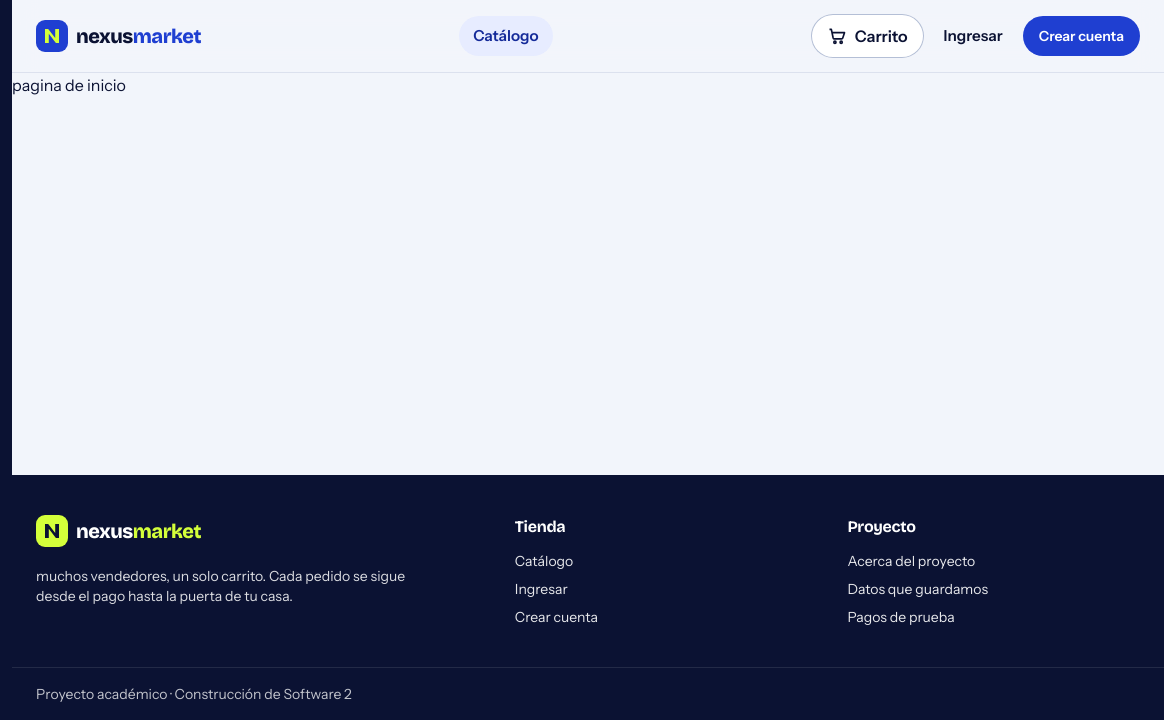
Test: store header › shows the cart to a visitor too, and sends them to sign in when they open it
Click the link with aria-label "Carrito: ingresa para ver tu carrito": (867,36) [811,14,924,58]
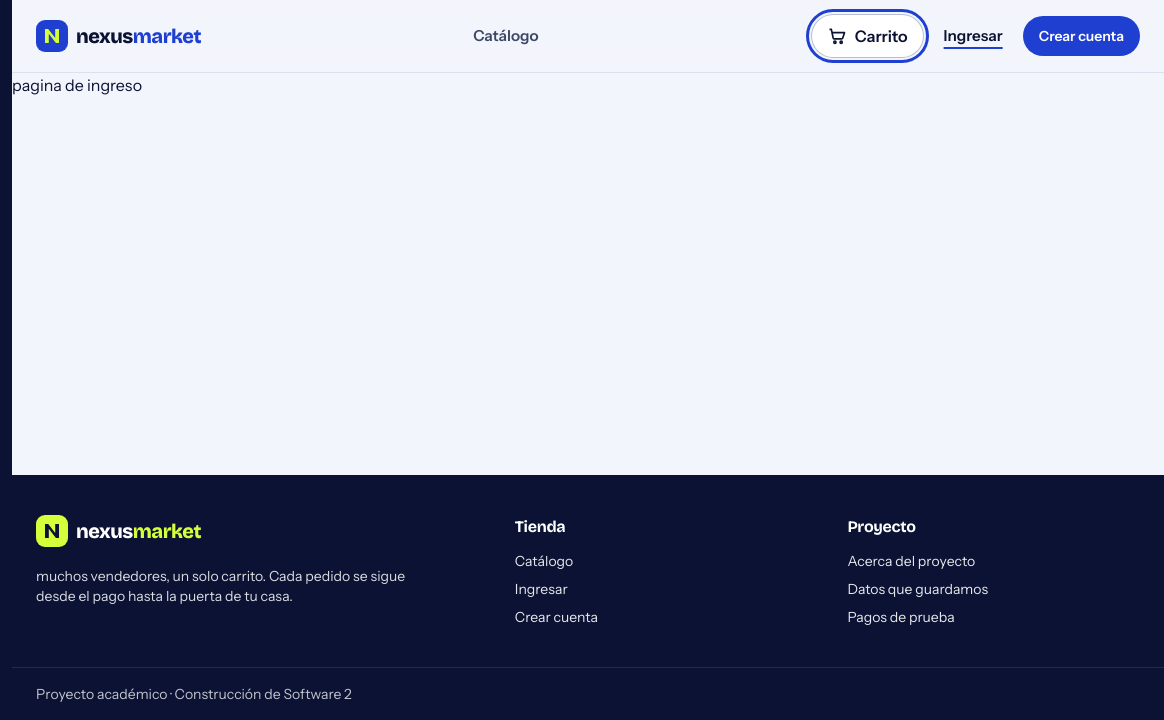
Expected: the text "pagina de ingreso" is shown, [12,75,142,95]
